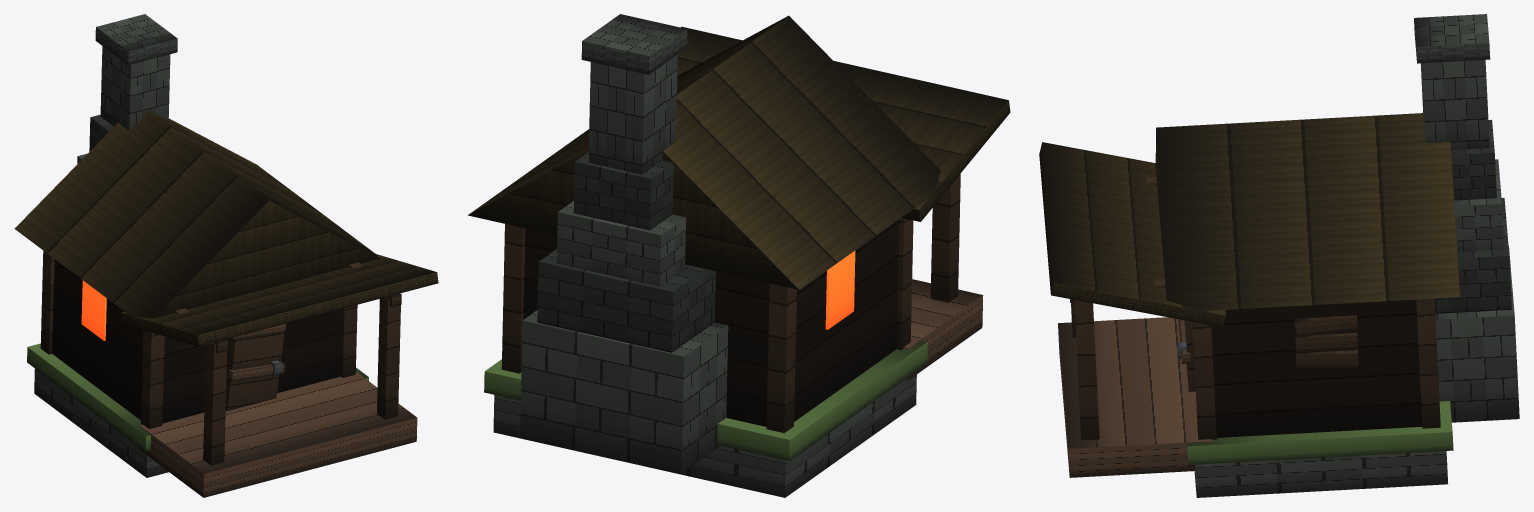
The model's file is cottage.gltf.
3 views of the same model, side by side, from view 1: azimuth 30°, elevation 25°; view 2: azimuth 150°, elevation 25°; view 3: azimuth 270°, elevation 25° (orthographic). The views are drawn at different scales.
Visible parts, largest first — view 1: cottage; view 2: cottage; view 3: cottage.
Part boxes in pixels (bbox=[...]): cottage: bbox=[14, 14, 438, 497]; cottage: bbox=[468, 14, 1010, 497]; cottage: bbox=[1039, 14, 1519, 497].
Size of the model in its own units: 1.53 by 1.94 by 2.1.
1 material, 1 textured.
